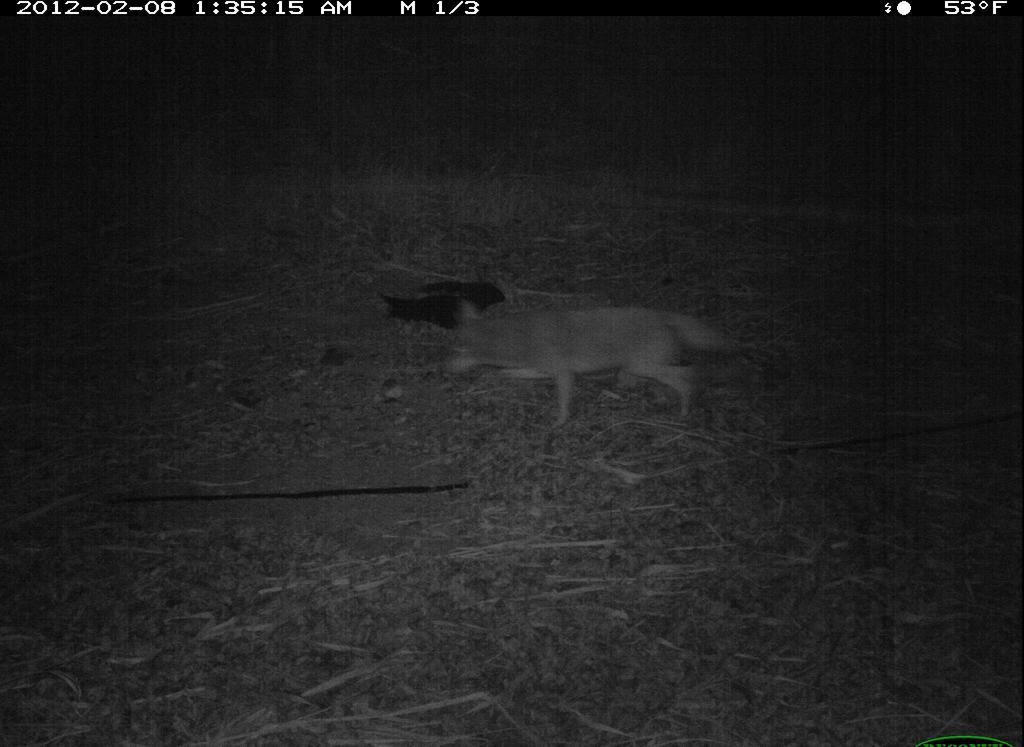coyote: (437, 289, 744, 442)
